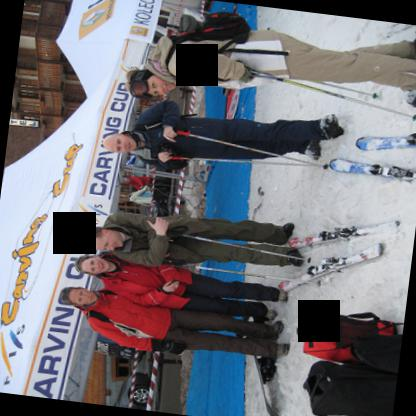backpack: (165, 7, 289, 67), (301, 358, 397, 416), (296, 309, 395, 362), (350, 322, 404, 371), (86, 310, 151, 337), (129, 119, 162, 159)
